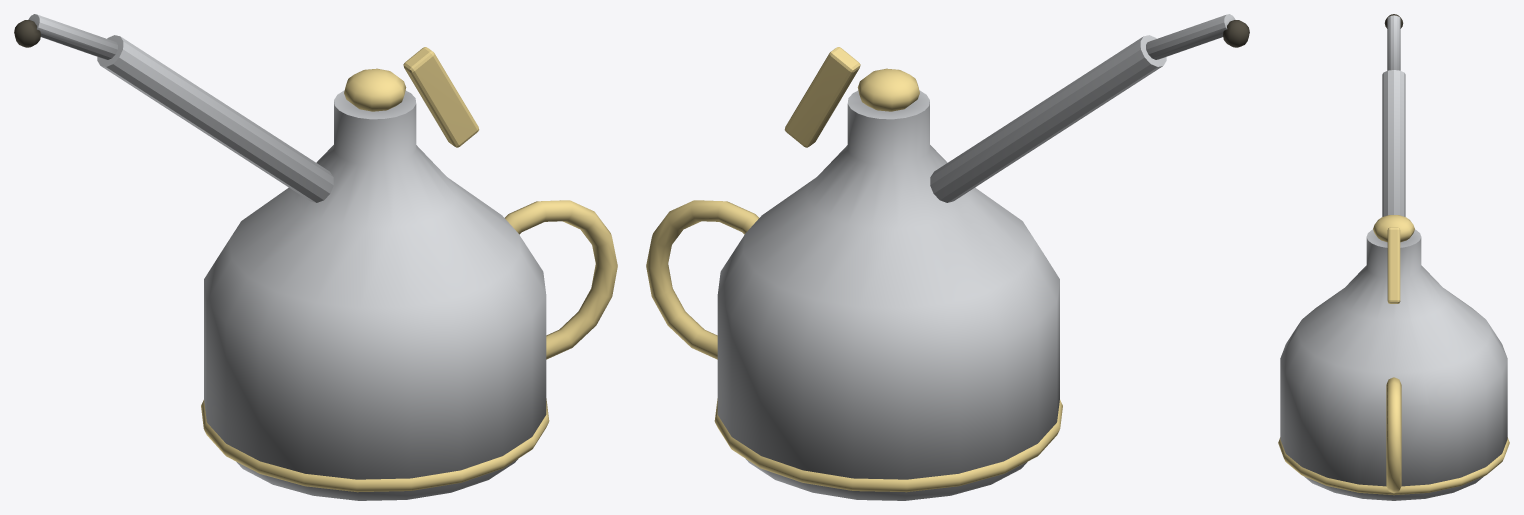
File: oilCan.glb
The picture shows the model from 3 angles, left to right: view 1: azimuth 30°, elevation 25°; view 2: azimuth 150°, elevation 25°; view 3: azimuth 270°, elevation 25°; orthographic projection. The views are drawn at different scales.
Visible parts, largest first — view 1: OilCan; view 2: OilCan; view 3: OilCan.
Part boxes in pixels (x1,y1,x2,y2): OilCan: [14, 14, 617, 500]; OilCan: [646, 14, 1249, 500]; OilCan: [1278, 14, 1509, 500].
Size of the model in its own units: 1.09 by 0.8739 by 0.55.
